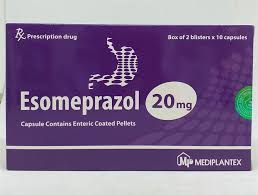Esomeprazol: (20, 91, 140, 115)
